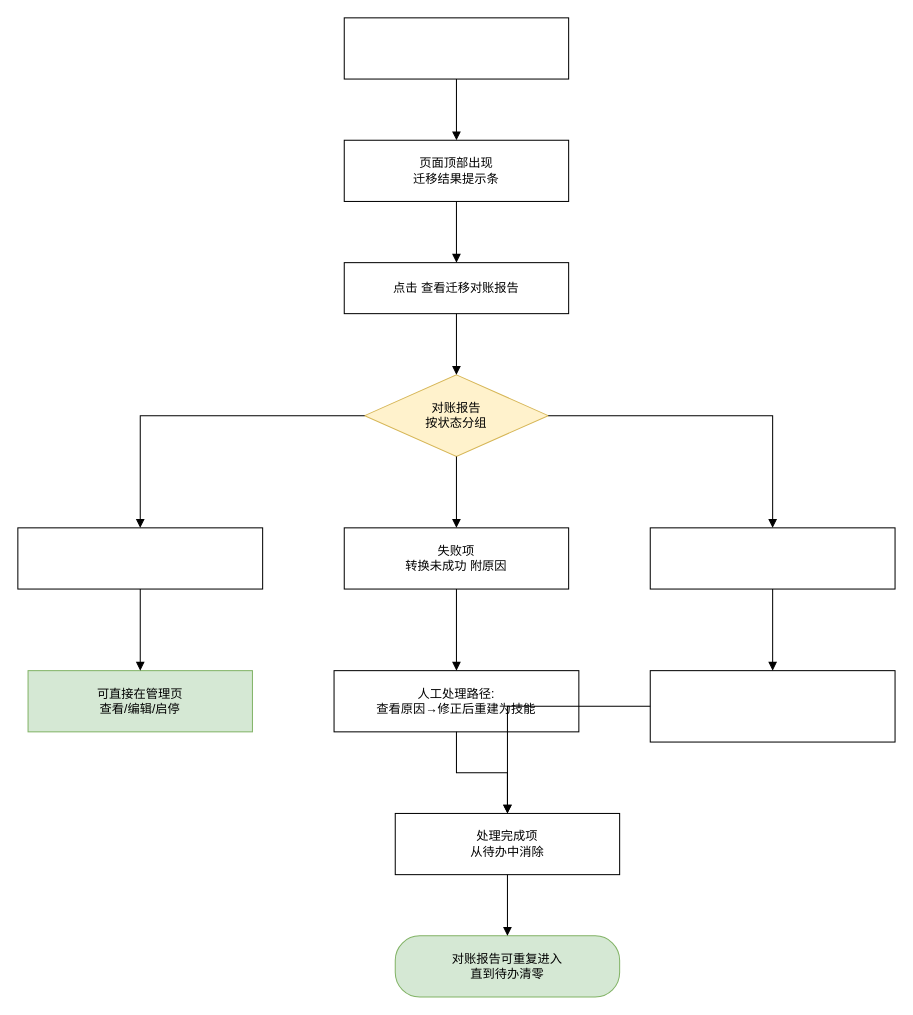
Image size: 913x1015. Some labels were removed from this diagram. The shapes that lost their labels are listed below. From the top down, each one's centre as x and y in pixels, then its label:
At point 456,48: "升级完成后 租户管理员 首次进入技能管理页".
At point 140,558: "成功项 已转为技能 带 由SOP迁移 标识".
At point 772,558: "跳过项 超大SOP等 未处理 附原因".
At point 772,706: "人工处理路径: 超大SOP拆分后 重新上传为技能".
